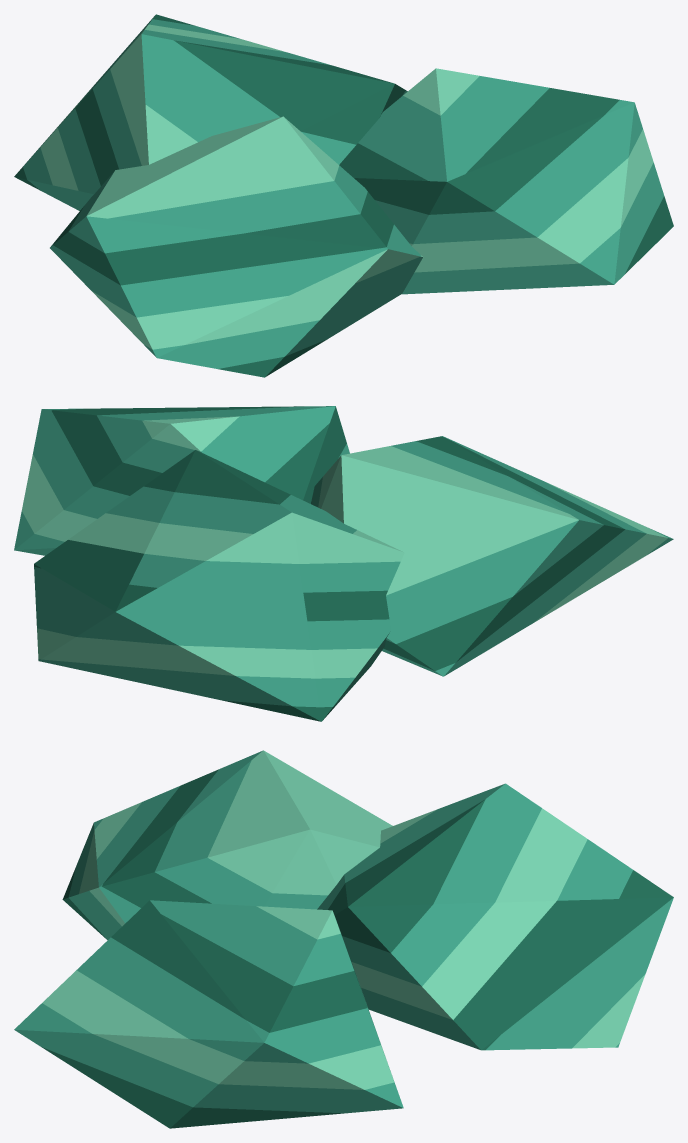
Rendered from minerai_cuivre_2.glb.
3 views of the same model, one above another, from view 1: azimuth 30°, elevation 25°; view 2: azimuth 150°, elevation 25°; view 3: azimuth 270°, elevation 25° (orthographic). The views are drawn at different scales.
Visible parts, largest first — view 1: minerai_malachite.004, minerai_malachite_claire.004, minerai_malachite_sombre.004; view 2: minerai_malachite.004, minerai_malachite_claire.004, minerai_malachite_sombre.004; view 3: minerai_malachite.004, minerai_malachite_claire.004, minerai_malachite_sombre.004.
Part boxes in pixels (x1=…): minerai_malachite.004: x1=23, y1=16, x2=664, y2=368; minerai_malachite_claire.004: x1=40, y1=24, x2=653, y2=349; minerai_malachite_sombre.004: x1=14, y1=14, x2=673, y2=377; minerai_malachite.004: x1=14, y1=406, x2=673, y2=707; minerai_malachite_claire.004: x1=21, y1=416, x2=667, y2=678; minerai_malachite_sombre.004: x1=34, y1=406, x2=624, y2=721; minerai_malachite.004: x1=14, y1=750, x2=673, y2=1113; minerai_malachite_claire.004: x1=42, y1=750, x2=645, y2=1089; minerai_malachite_sombre.004: x1=41, y1=769, x2=673, y2=1128.
Size of the model in its own units: 0.5101 by 0.1395 by 0.5109.
